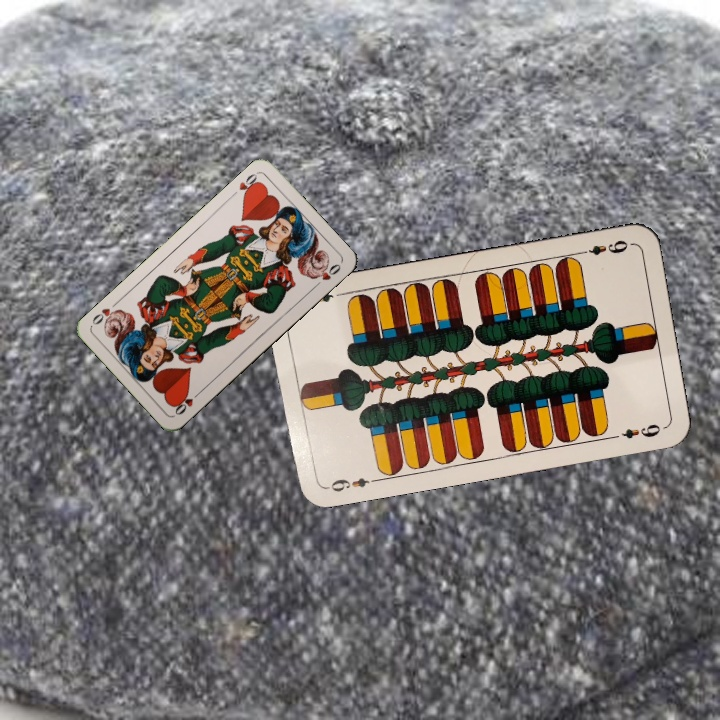E9: (321, 473, 380, 495), (574, 236, 631, 258)
HO: (227, 169, 263, 200), (170, 387, 204, 418)
